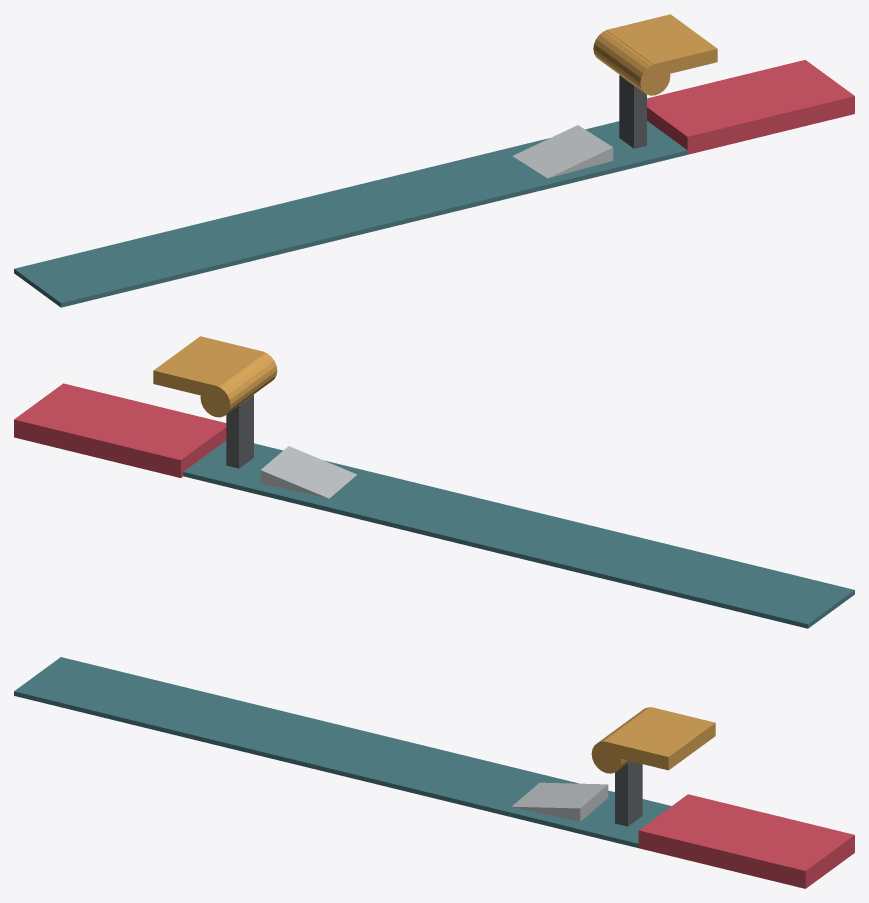
The model's file is vault.glb.
3 renders of one model, top to bottom at view 1: azimuth 30°, elevation 25°; view 2: azimuth 150°, elevation 25°; view 3: azimuth 330°, elevation 25°, orthographic.
Parts seen in each view (by area): view 1: Mesh_Mesh_head_geo.001_lambert2SG.001; view 2: Mesh_Mesh_head_geo.001_lambert2SG.001; view 3: Mesh_Mesh_head_geo.001_lambert2SG.001.
Boxes of the visible parts, x1,y1,x2,y2 form: Mesh_Mesh_head_geo.001_lambert2SG.001: [14, 14, 854, 307]; Mesh_Mesh_head_geo.001_lambert2SG.001: [14, 336, 854, 628]; Mesh_Mesh_head_geo.001_lambert2SG.001: [14, 657, 854, 888].
Bounding box in the file's own units: 185 × 22 × 20.
